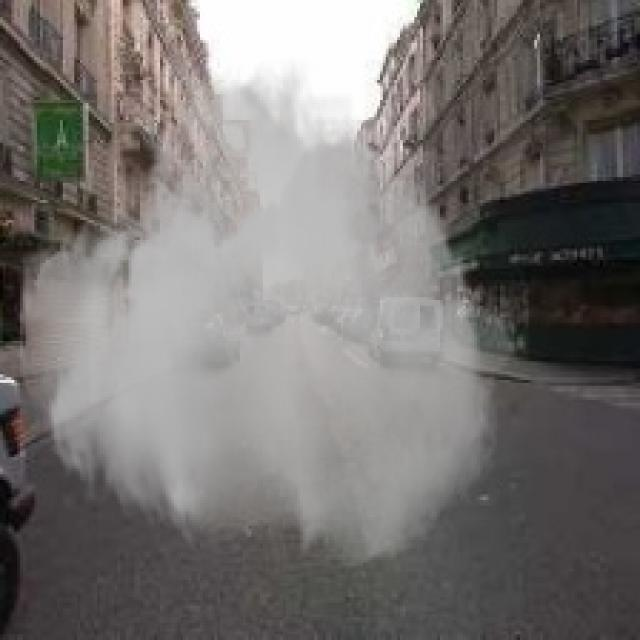smoke: (11, 46, 528, 571)
